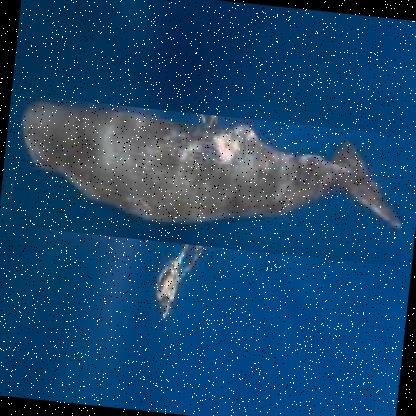sperm_whale: (8, 93, 415, 267)
